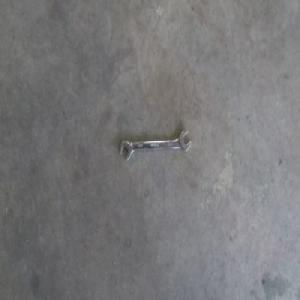Wrench: (120, 131, 190, 161)
